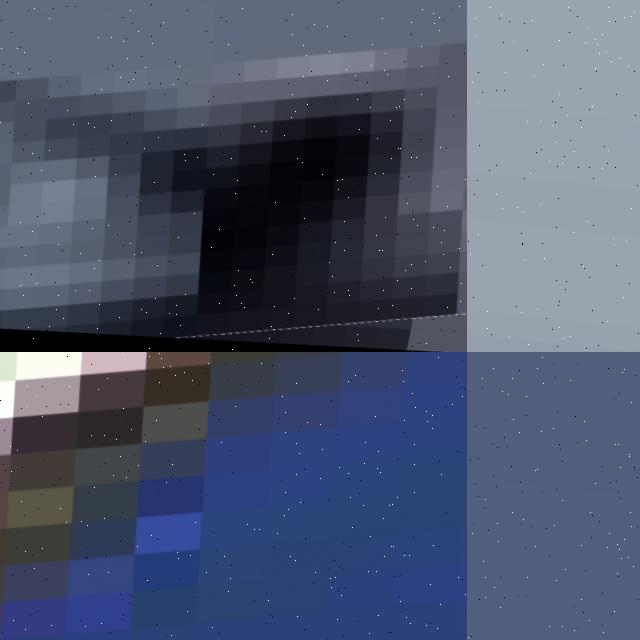drone: (0, 0, 467, 352), (0, 352, 467, 640)
